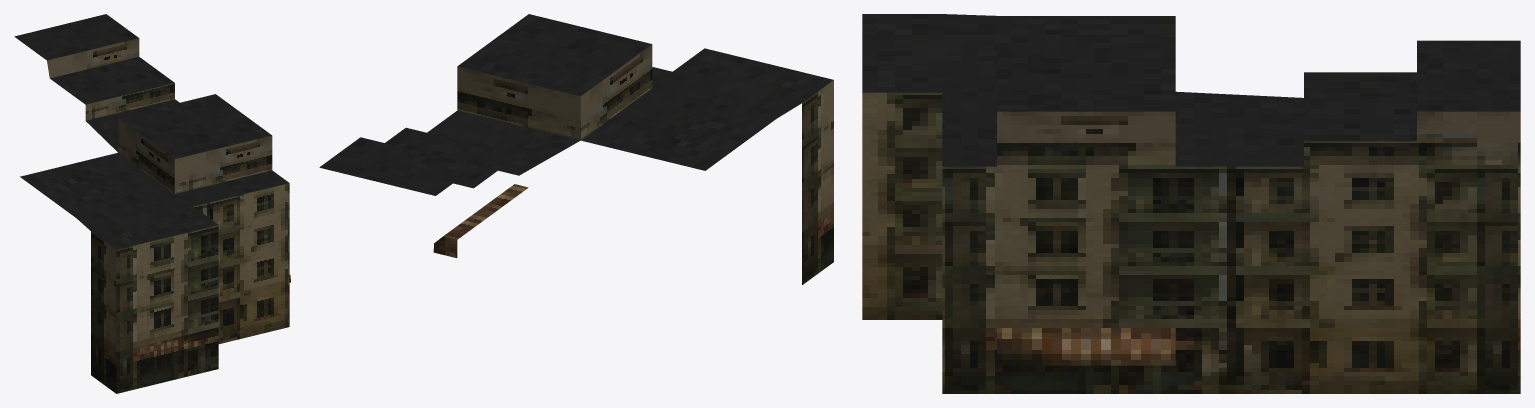
File: env_bld_apartment_normal.glb
3 renders of one model, left to right at view 1: azimuth 30°, elevation 25°; view 2: azimuth 150°, elevation 25°; view 3: azimuth 270°, elevation 25°, orthographic. The views are drawn at different scales.
Visible parts, largest first — view 1: env_bld_apartment_normal; view 2: env_bld_apartment_normal; view 3: env_bld_apartment_normal.
Boxes of the visible parts, <box> form: env_bld_apartment_normal: <box>14,14,290,393</box>; env_bld_apartment_normal: <box>319,14,833,284</box>; env_bld_apartment_normal: <box>862,14,1520,393</box>.
Bounding box in the file's own units: 0.0309 × 0.0243 × 0.0514.
Materials: 2 (2 with a texture image).
